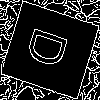D: (25, 25, 78, 74)
